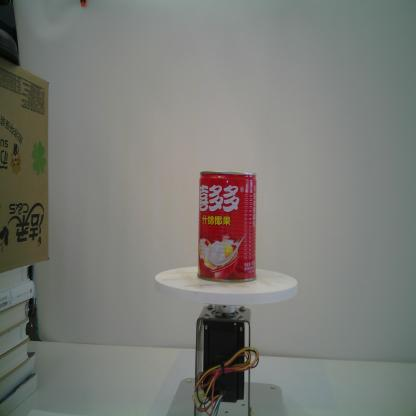Canned Food: (197, 170, 258, 284)
